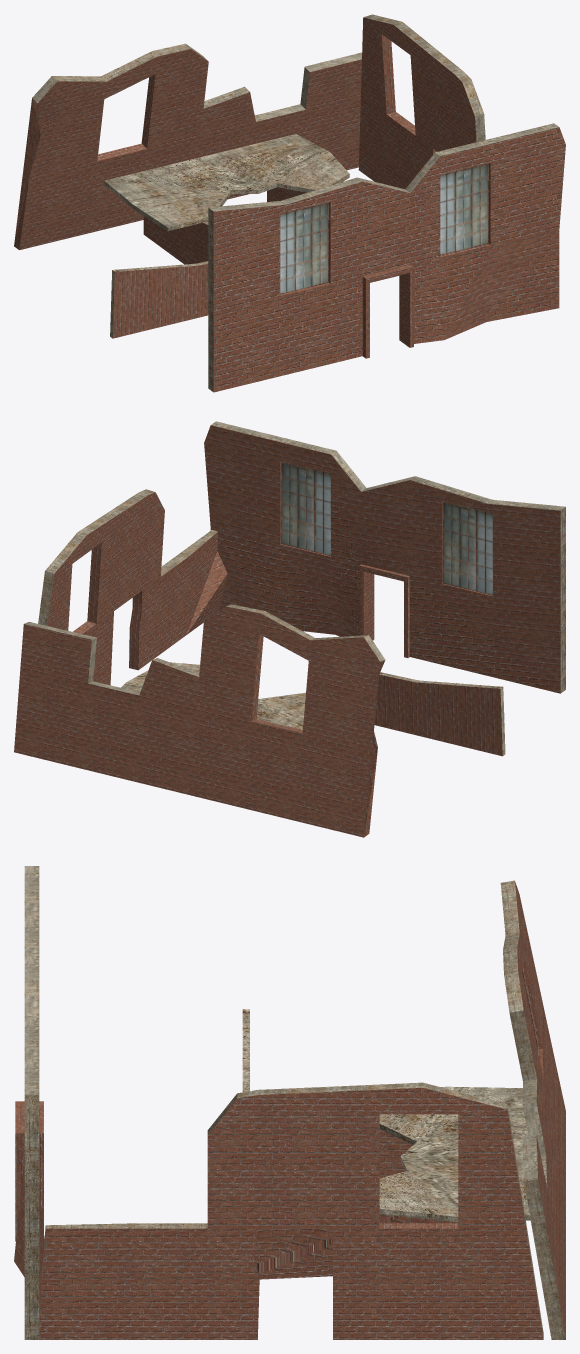
The model's file is building_destroyed_03.fbx.
3 renders of one model, top to bottom at view 1: azimuth 30°, elevation 25°; view 2: azimuth 150°, elevation 25°; view 3: azimuth 270°, elevation 25°, orthographic. The views are drawn at different scales.
Visible parts, largest first — view 1: building_destroyed_03; view 2: building_destroyed_03; view 3: building_destroyed_03.
Part boxes in pixels (x1=…): building_destroyed_03: x1=14, y1=14, x2=565, y2=392; building_destroyed_03: x1=14, y1=421, x2=565, y2=837; building_destroyed_03: x1=14, y1=866, x2=565, y2=1339.
Size of the model in its own units: 12.12 by 5.91 by 11.46.
